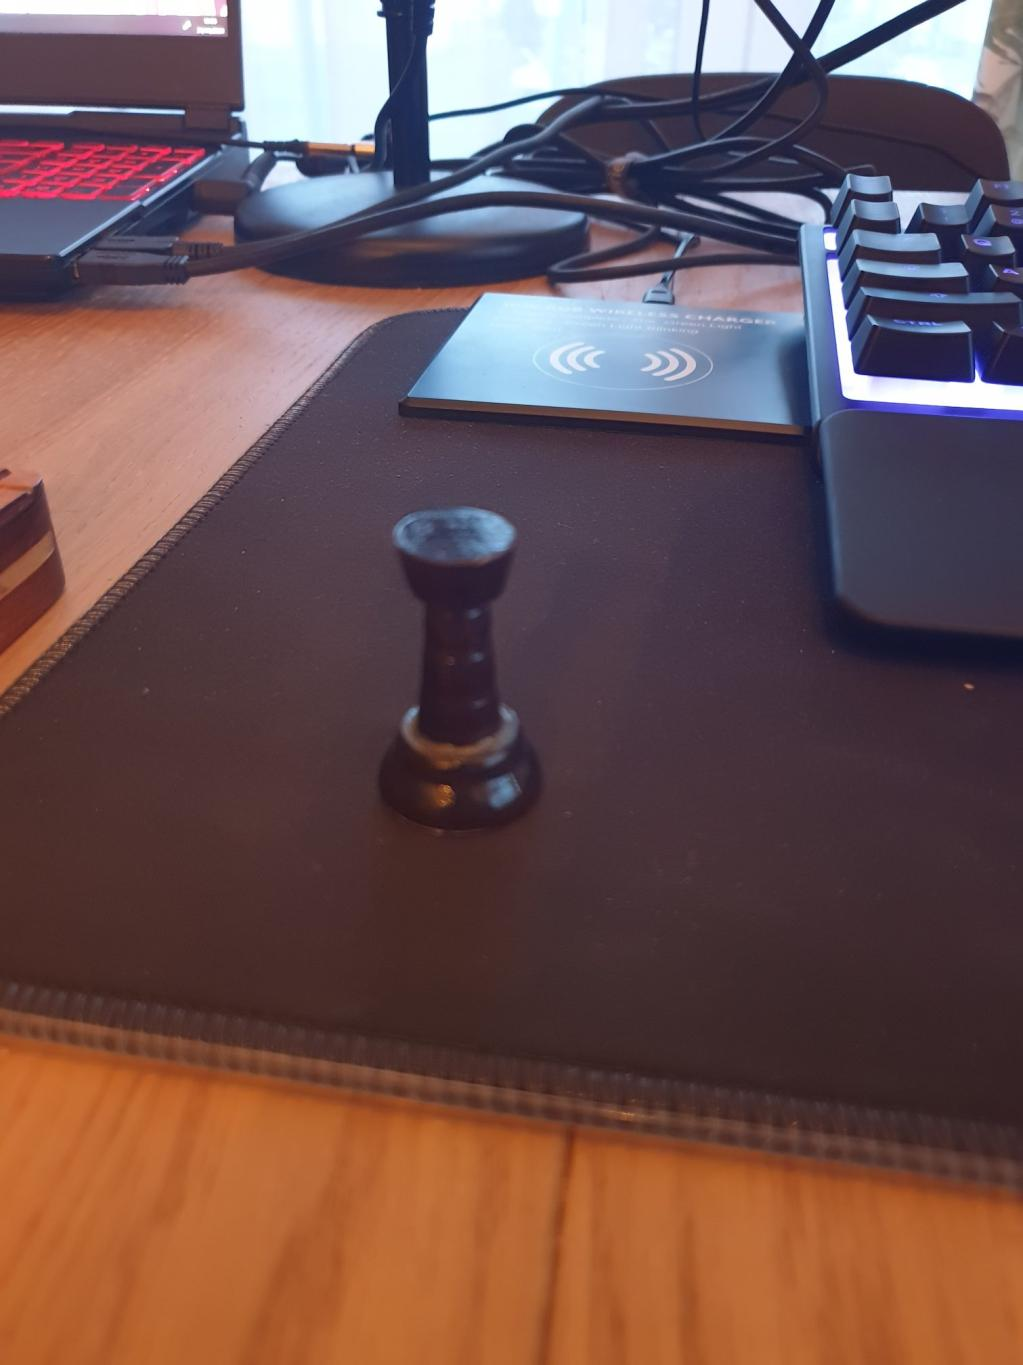brook: (379, 507, 543, 834)
